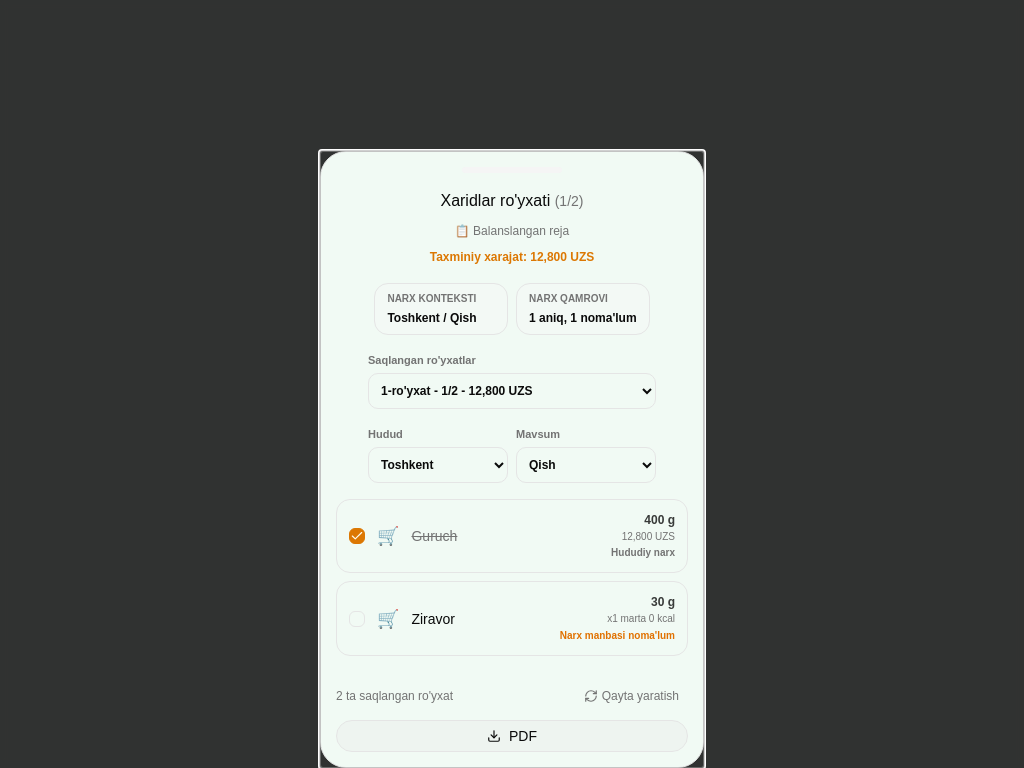
Test case: ShoppingList backend generation › switches between previous saved shopping lists and shows price coverage
The width and height of the screenshot is (1024, 768).
Expected: the text "Guruch" is shown, [412, 528, 457, 544]
Expected: the text "Toshkent / Qish" is shown, [387, 312, 476, 326]
Select "2-ro'yxat - 0/1 - 9,000 UZS" in the dropdown named "Saqlangan xarid ro'yxati". click: [512, 391]
box: [368, 373, 656, 409]
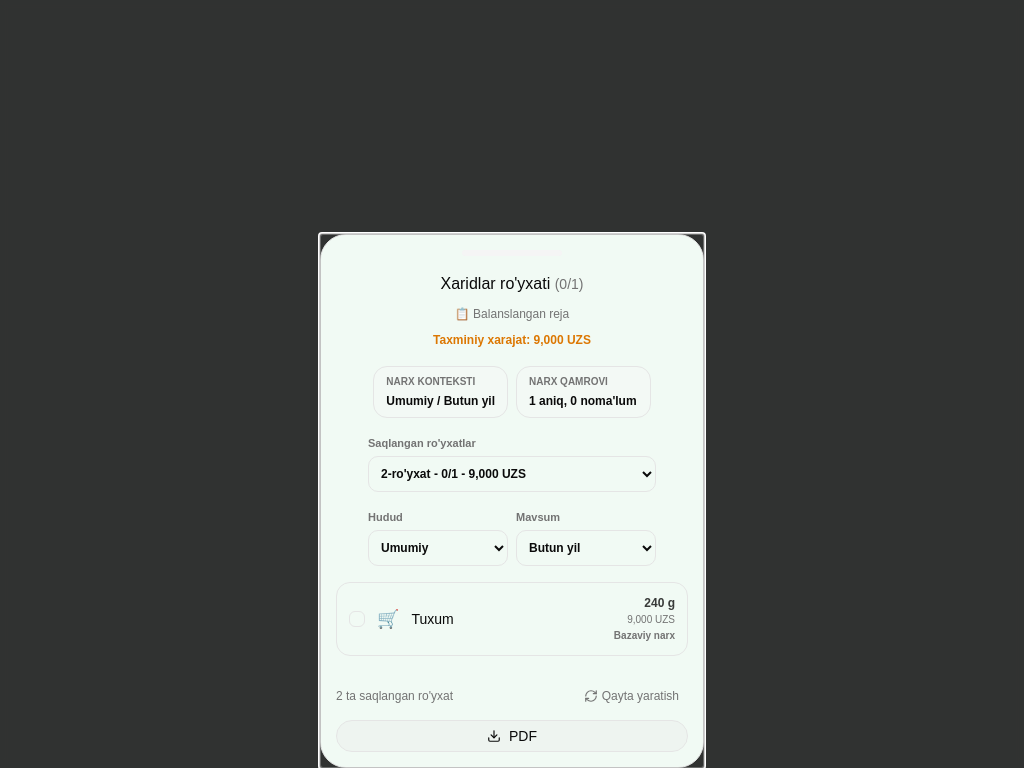
Now the text "Tuxum" is shown, box [412, 611, 454, 627]
Now the text "1 aniq, 0 noma'lum" is shown, box [529, 393, 638, 409]
Now the text "Bazaviy narx" is shown, box [614, 629, 675, 643]
